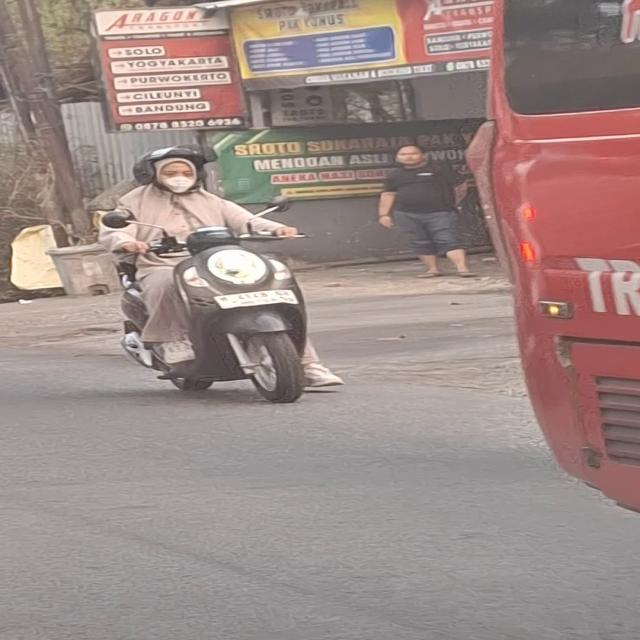WithHelmet: (97, 145, 345, 389)
